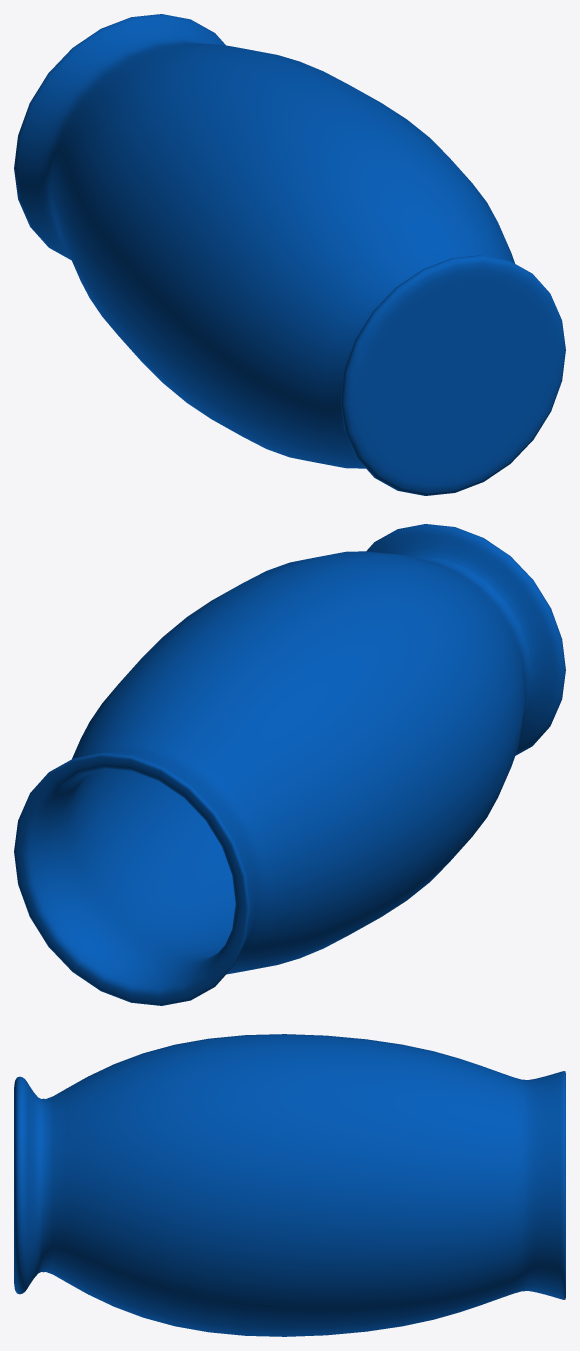
The model's file is Чаша.fbx.
The picture shows the model from 3 angles, top to bottom: view 1: azimuth 30°, elevation 25°; view 2: azimuth 150°, elevation 25°; view 3: azimuth 270°, elevation 25°; orthographic projection. The views are drawn at different scales.
Parts seen in each view (by area): view 1: Plane; view 2: Plane; view 3: Plane.
Part boxes in pixels (<box>): Plane: <box>14,14,565,495</box>; Plane: <box>14,524,565,1005</box>; Plane: <box>14,1034,565,1336</box>.
Size of the model in its own units: 0.6313 by 0.6313 by 1.15.
